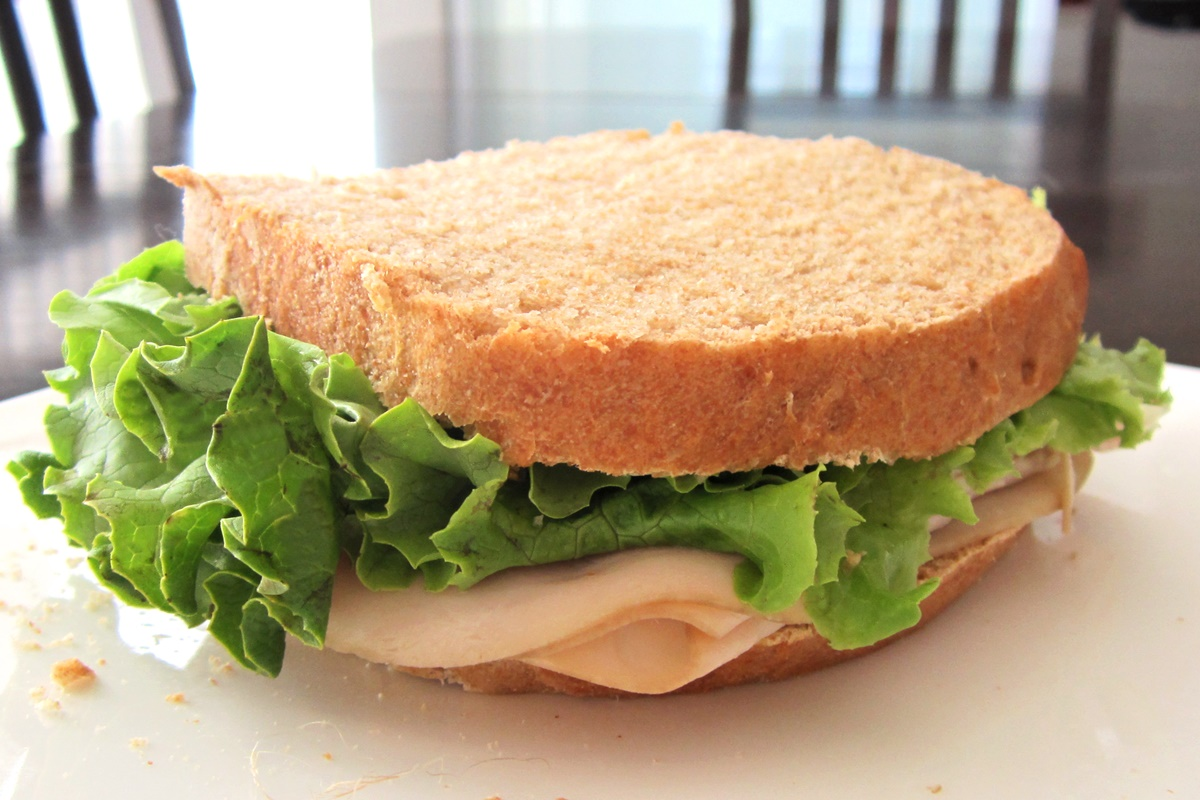sandwich: (1, 71, 1200, 771)
